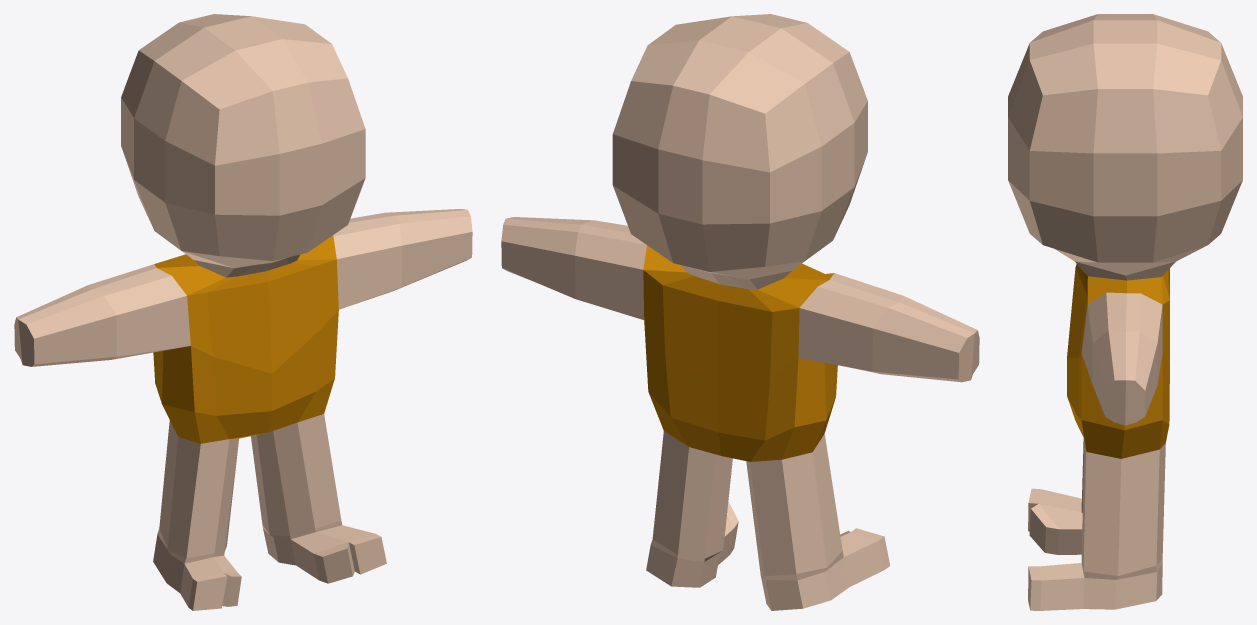
Rendered from monk_better 1.fbx.
The picture shows the model from 3 angles, left to right: view 1: azimuth 30°, elevation 25°; view 2: azimuth 150°, elevation 25°; view 3: azimuth 270°, elevation 25°; orthographic projection. The views are drawn at different scales.
Visible parts, largest first — view 1: Cube; view 2: Cube; view 3: Cube.
Boxes of the visible parts, x1,y1,x2,y2 form: Cube: (14,14,472,610); Cube: (501,14,979,610); Cube: (1008,14,1242,610).
Size of the model in its own units: 8.7 by 9.87 by 3.85.
